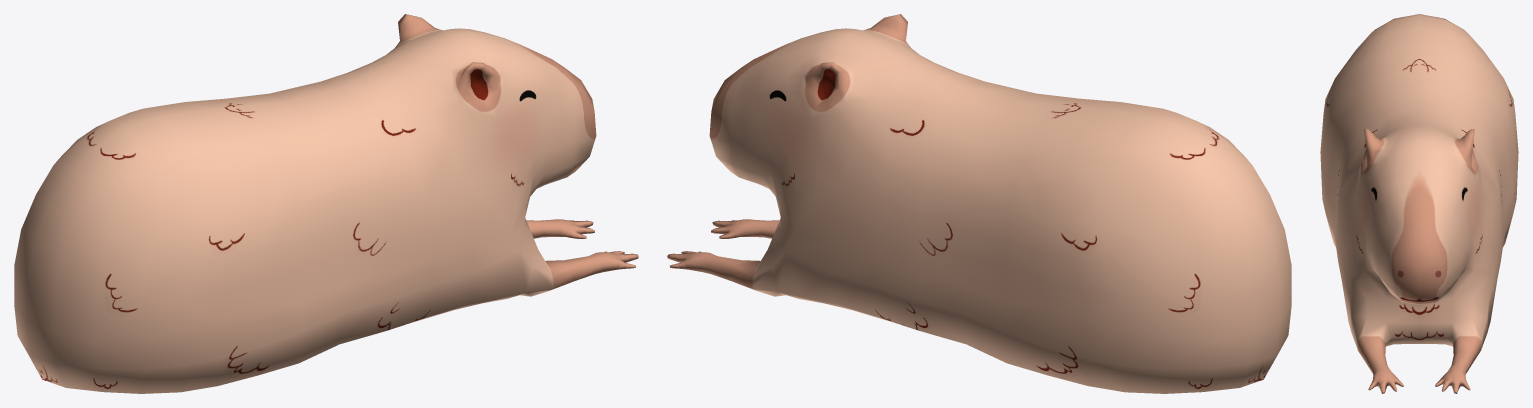
Rendered from capybara_light.glb.
3 renders of one model, left to right at view 1: azimuth 30°, elevation 25°; view 2: azimuth 150°, elevation 25°; view 3: azimuth 270°, elevation 25°, orthographic. The views are drawn at different scales.
Parts seen in each view (by area): view 1: Plane.004_0; view 2: Plane.004_0; view 3: Plane.004_0.
Boxes of the visible parts, bbox=[...] form: Plane.004_0: bbox=[14, 14, 638, 393]; Plane.004_0: bbox=[667, 14, 1291, 393]; Plane.004_0: bbox=[1320, 14, 1518, 393].
Size of the model in its own units: 1.47 by 0.5969 by 0.5337.
Materials: 1 (1 with a texture image).
